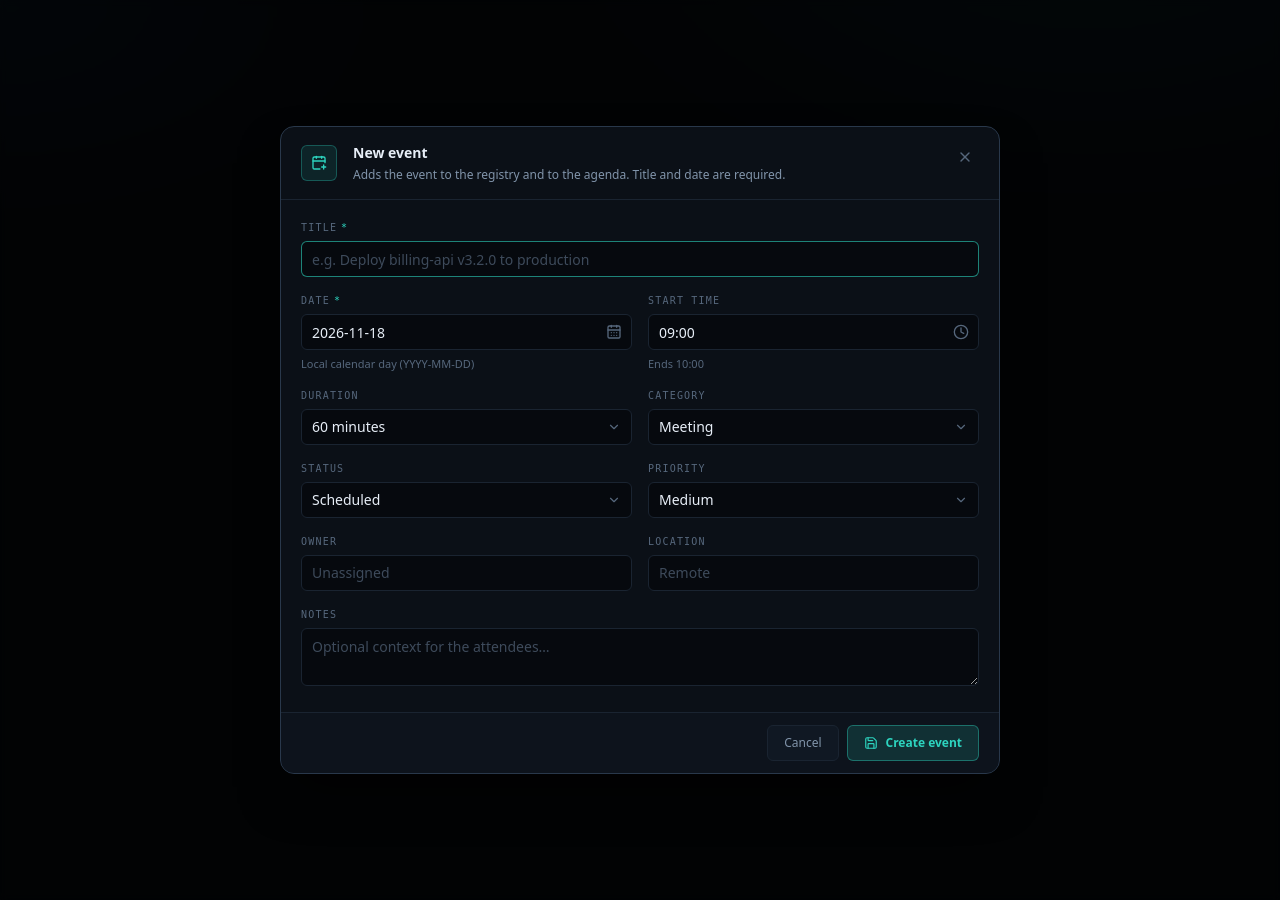
EventForm › closes without turning the empty title into an error
Click the button with aria-label "Category" at (686, 426), box top-left (648, 409), bottom-right (979, 445)
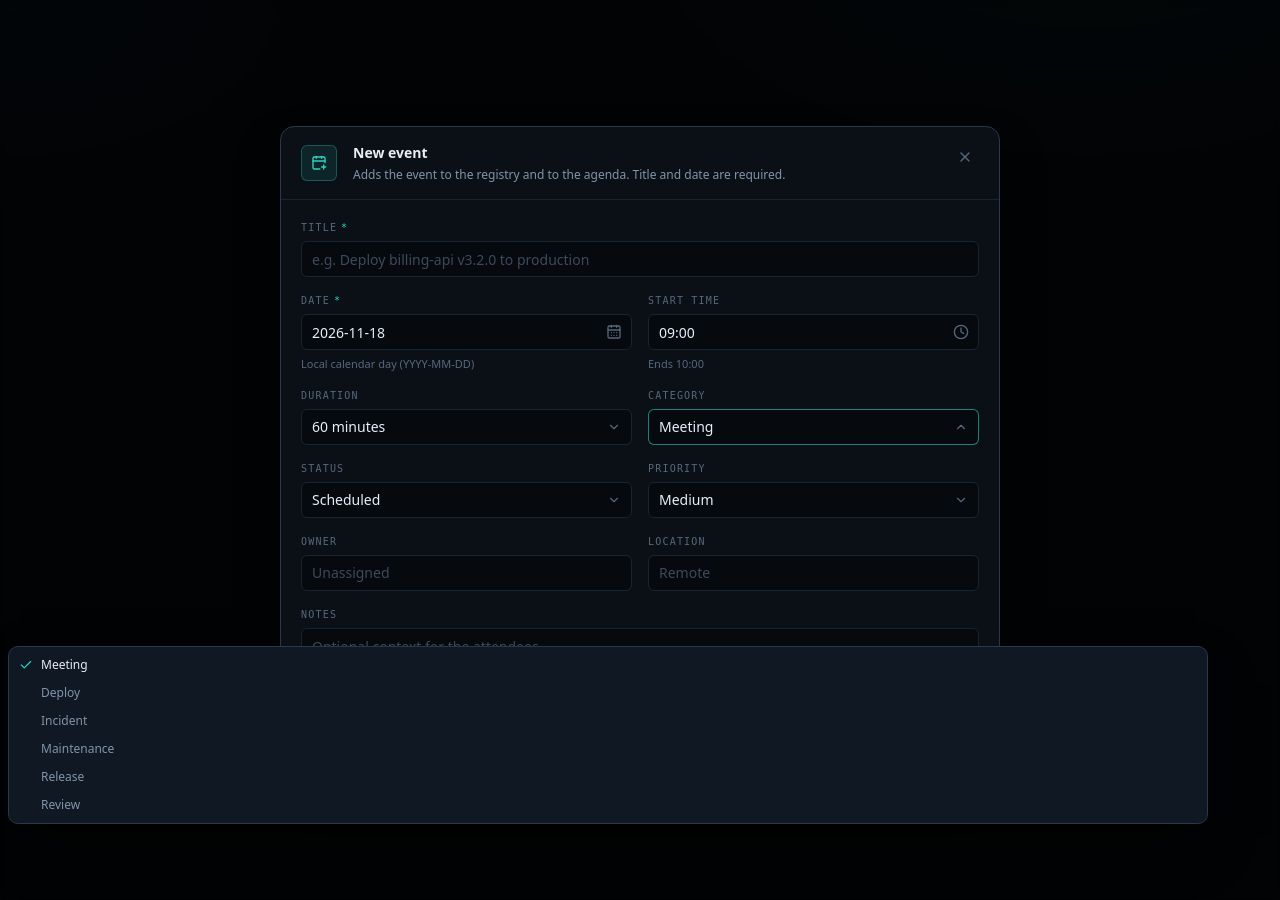
Click the menu item "Incident" at (64, 720), box top-left (41, 712), bottom-right (87, 729)
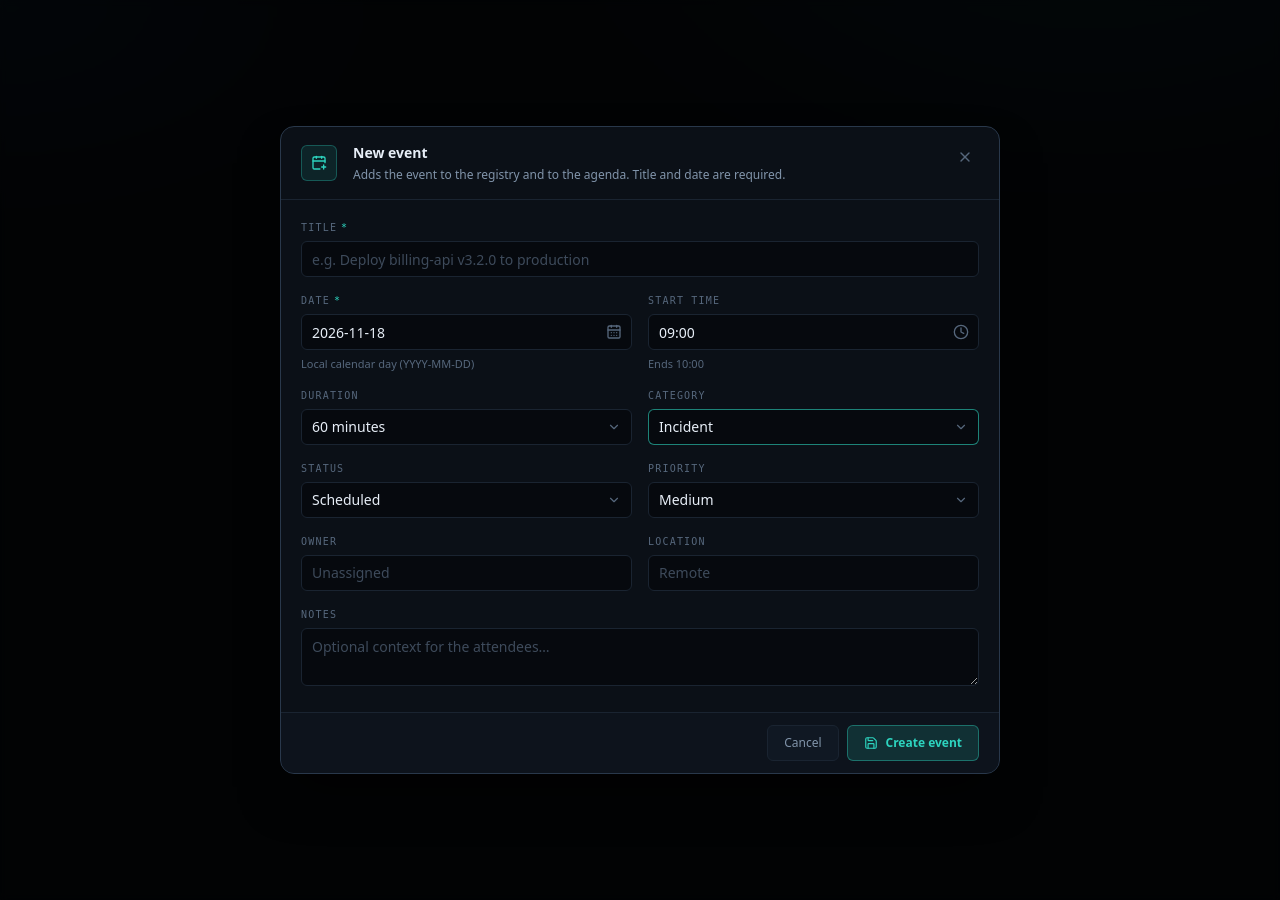
Click the button named "Close dialog" at (965, 157), box top-left (951, 143), bottom-right (979, 171)
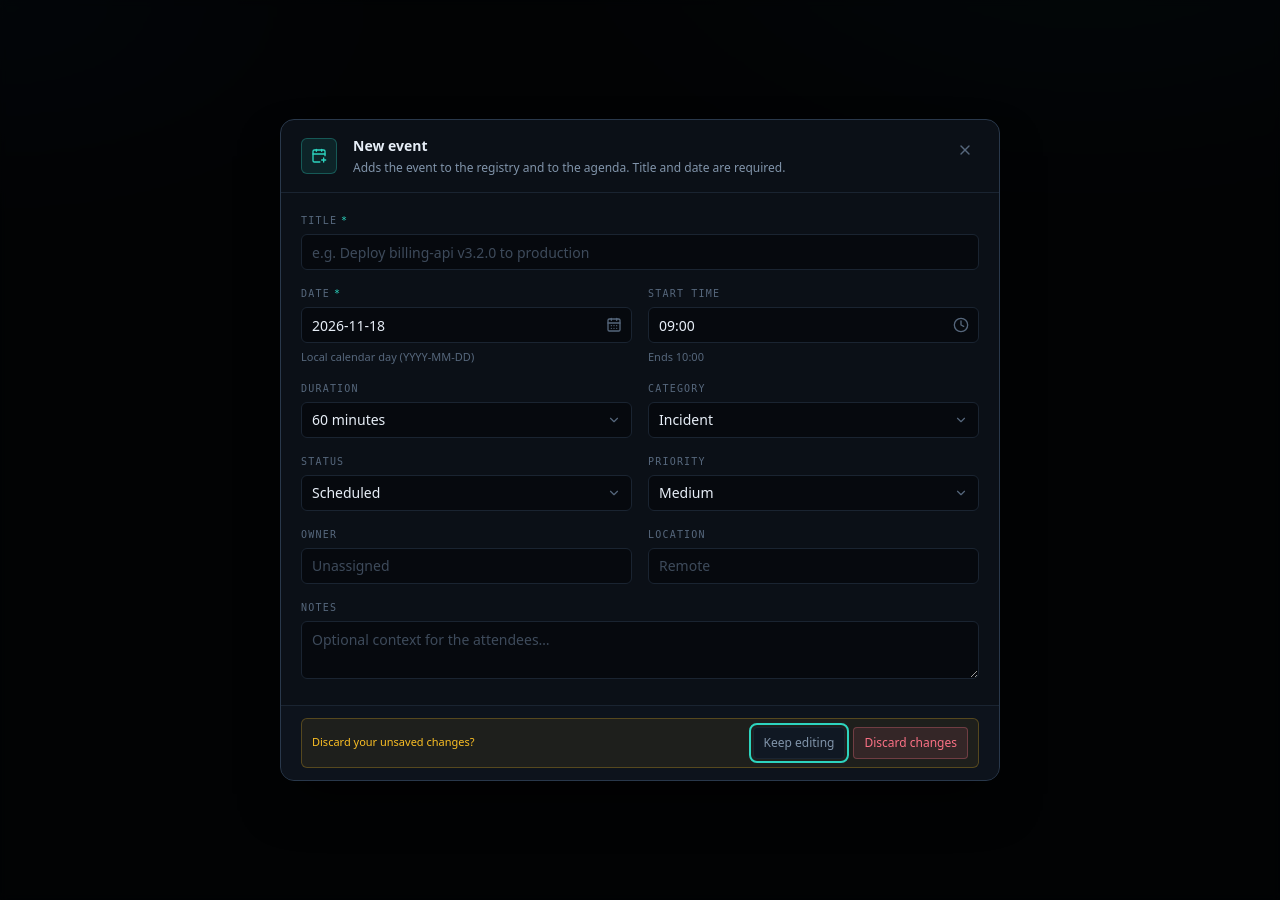
Check: the text "Discard your unsaved changes?" is shown, box top-left (312, 734), bottom-right (474, 751)
